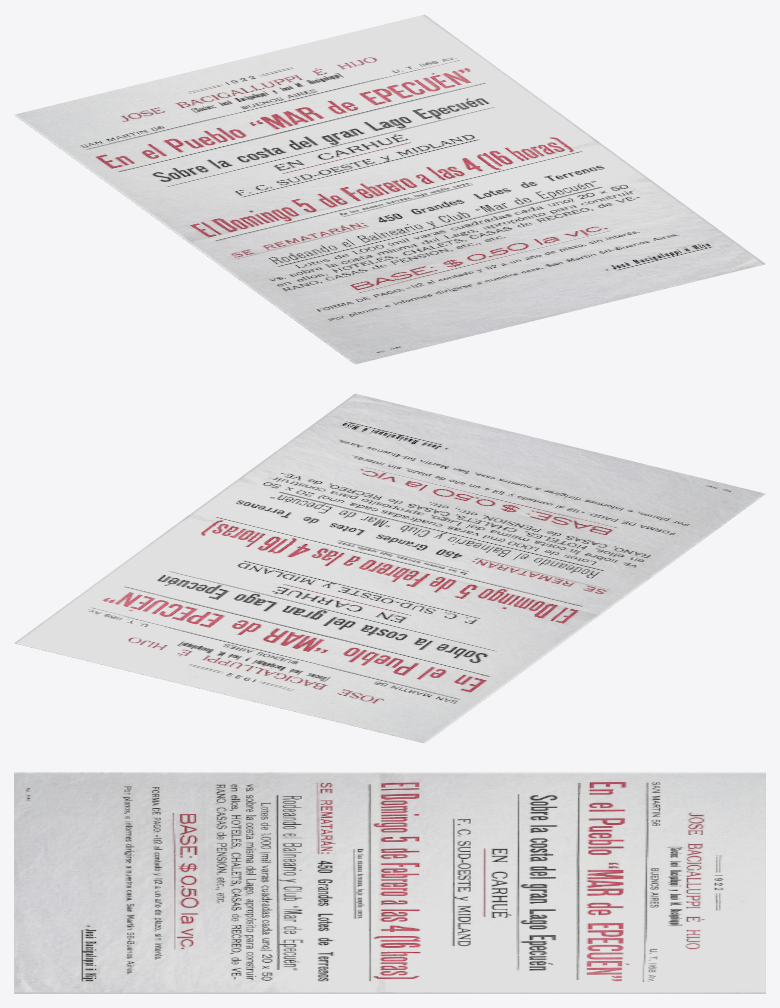
Rendered from PaperA.fbx.
3 views of the same model, one above another, from view 1: azimuth 30°, elevation 25°; view 2: azimuth 150°, elevation 25°; view 3: azimuth 270°, elevation 25° (orthographic). The views are drawn at different scales.
Parts seen in each view (by area): view 1: Paper_A; view 2: Paper_A; view 3: Paper_A.
Part boxes in pixels (x1,y1,x2,y2): Paper_A: (14,14,765,364); Paper_A: (14,393,765,743); Paper_A: (14,772,765,993).
Size of the model in its own units: 20.4 by 0.00496 by 29.32.
2 materials, 1 textured.
